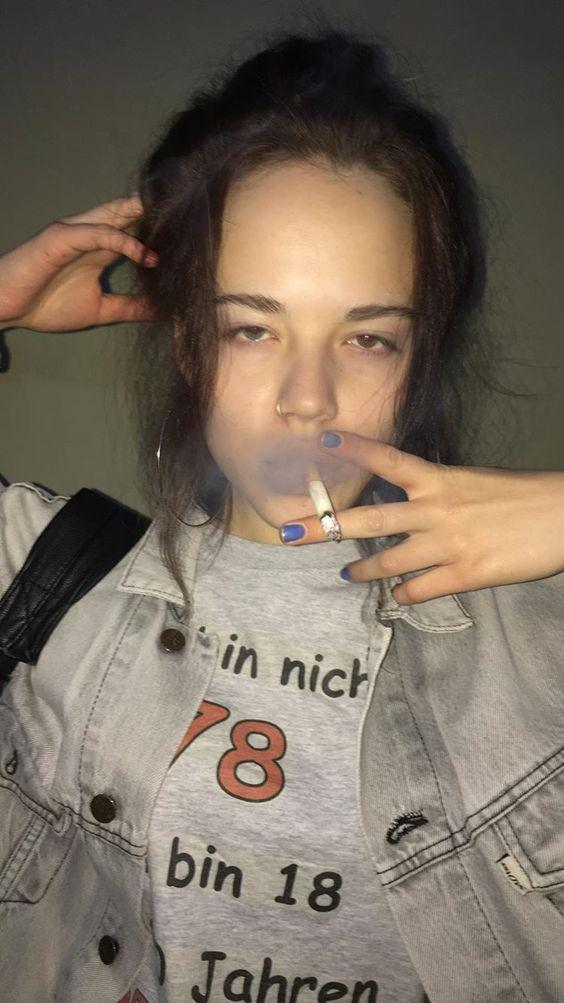cigarette: (303, 461, 343, 542)
